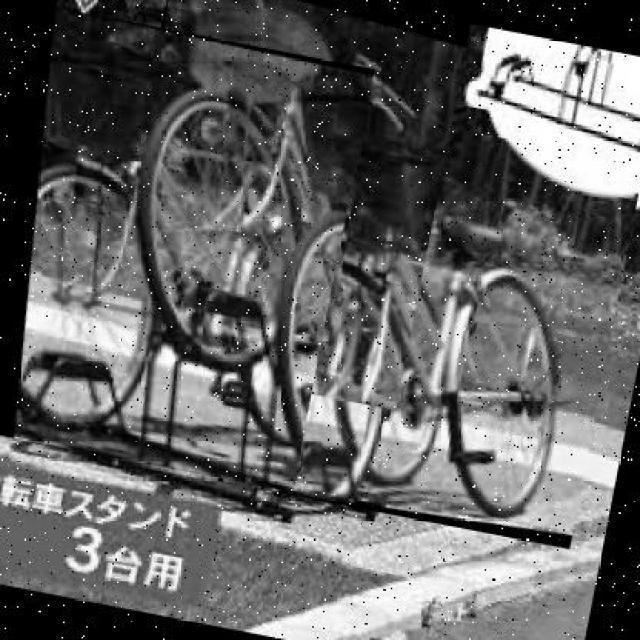bicycle: (218, 98, 640, 554), (1, 7, 378, 495), (99, 1, 474, 413)
